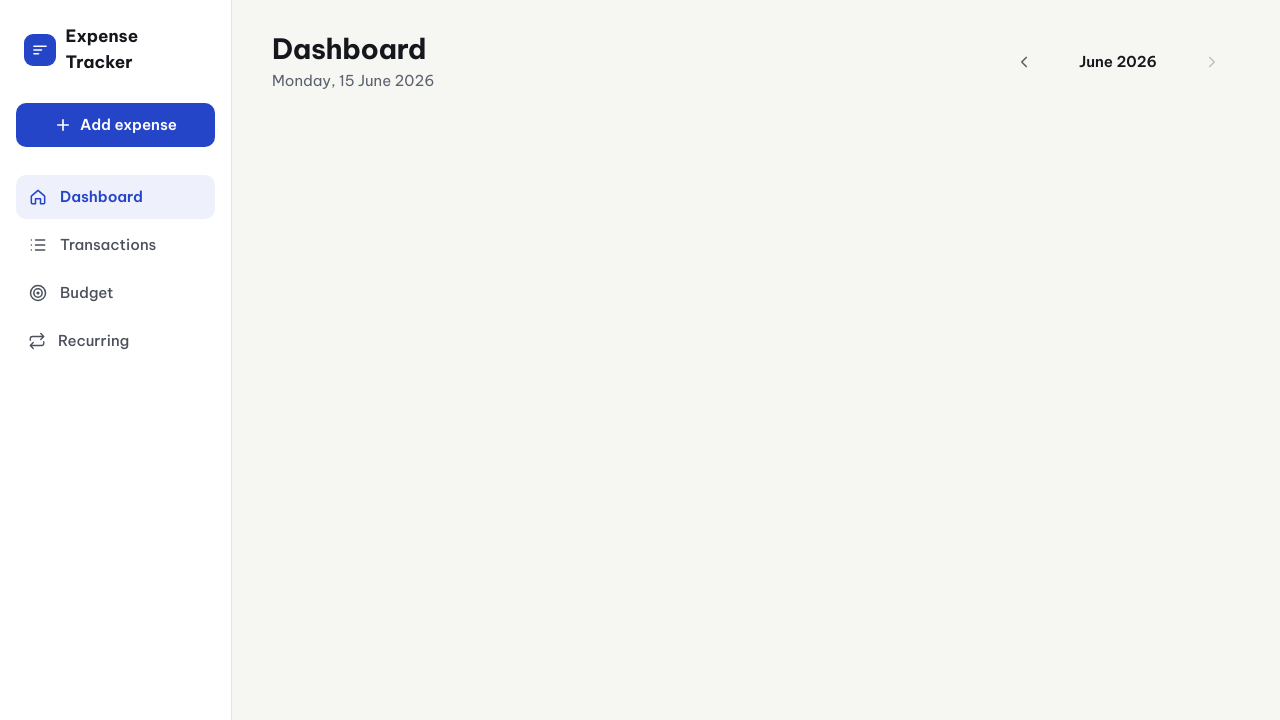
Test: duplicate form › R6: copies amount, category and note
This screenshot has width=1280, height=720.
Click the button "Transactions": (116, 245) [16, 223, 215, 267]
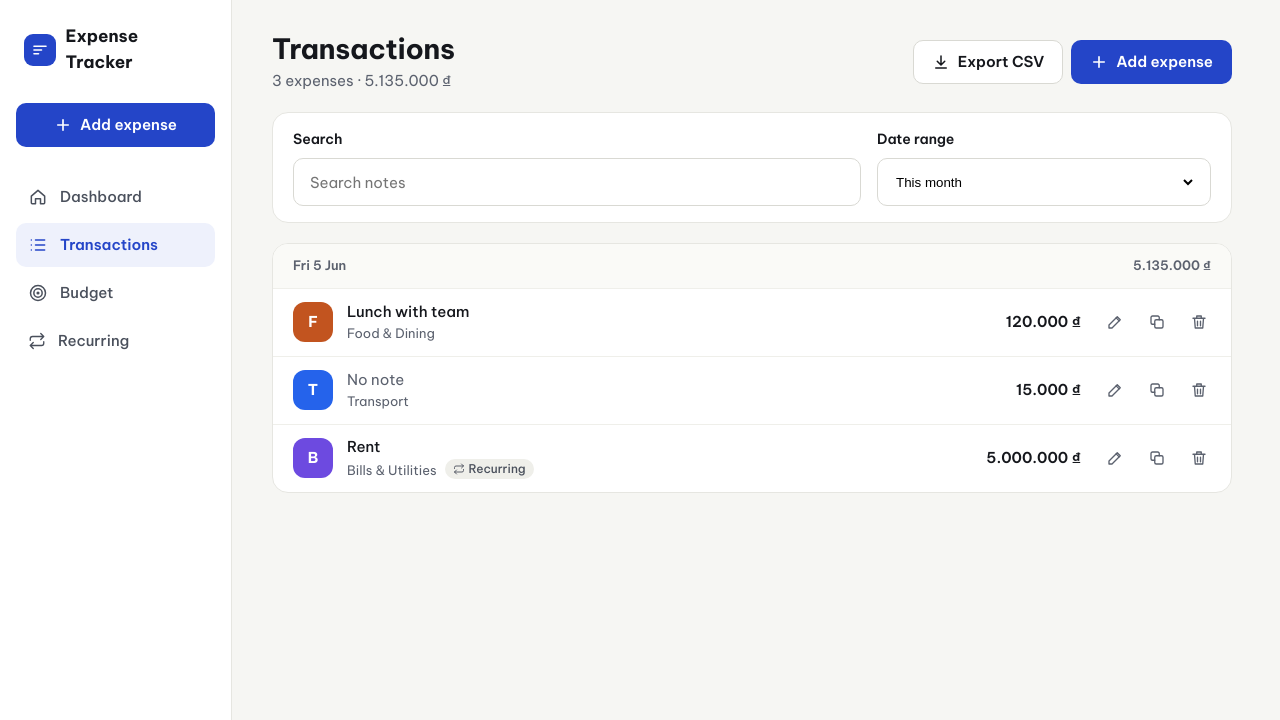
Click the button named "Duplicate Lunch with team": (1157, 322) [1137, 302, 1177, 342]
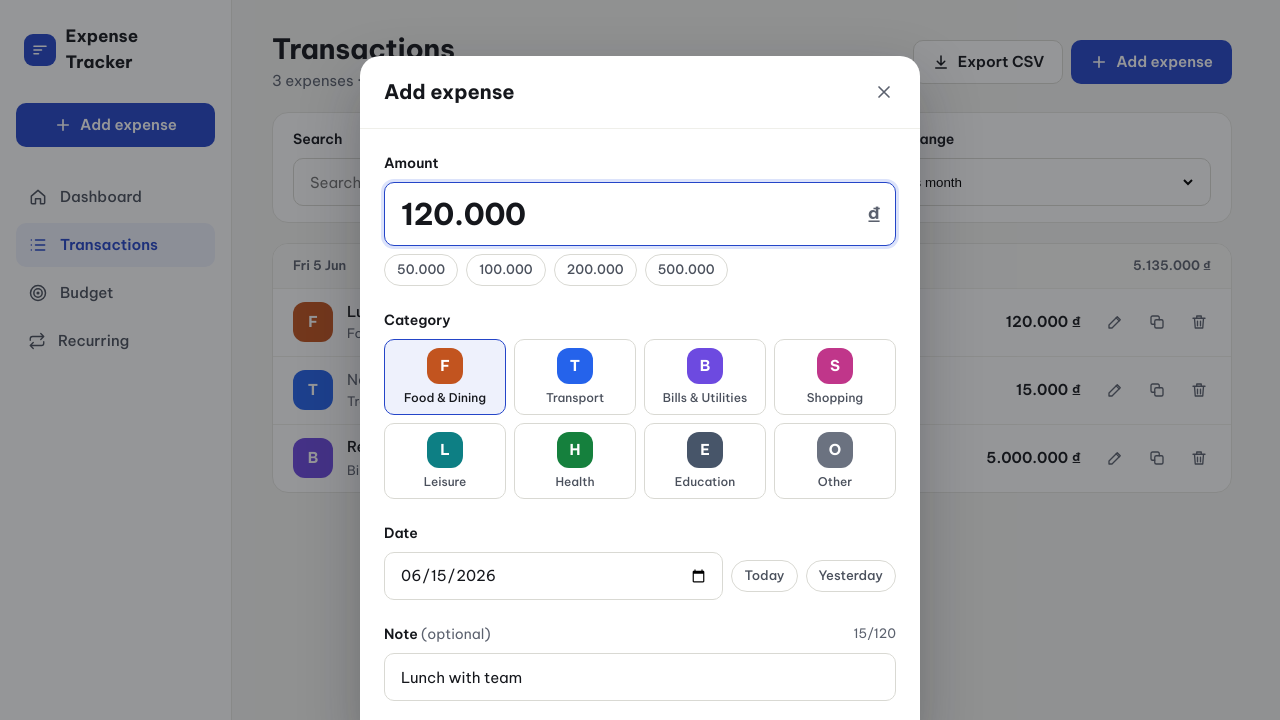
Now the field labelled "Amount" holds "120.000", box [399, 183, 857, 245]
Now the field labelled "Note (optional)" holds "Lunch with team", box [399, 654, 881, 700]
